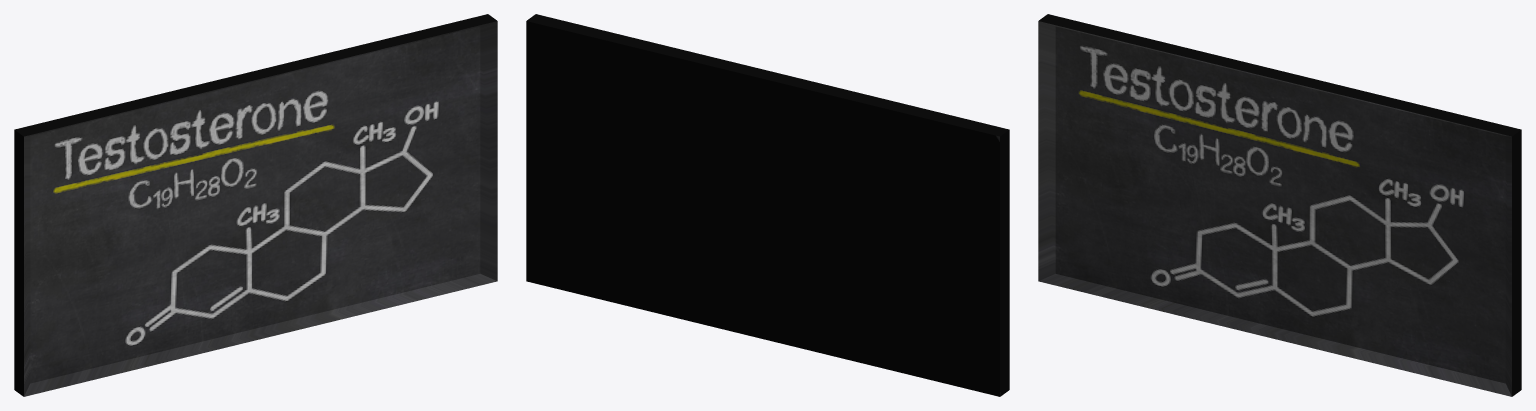
The model's file is board 2.fbx.
The picture shows the model from 3 angles, left to right: view 1: azimuth 30°, elevation 25°; view 2: azimuth 150°, elevation 25°; view 3: azimuth 330°, elevation 25°; orthographic projection.
Parts seen in each view (by area): view 1: board2; view 2: board2; view 3: board2.
Part boxes in pixels (x1=…): board2: x1=14, y1=14, x2=497, y2=396; board2: x1=526, y1=14, x2=1009, y2=396; board2: x1=1038, y1=14, x2=1521, y2=396.
Bounding box in the file's own units: 133 × 69.64 × 4.64.
1 material, 1 textured.
